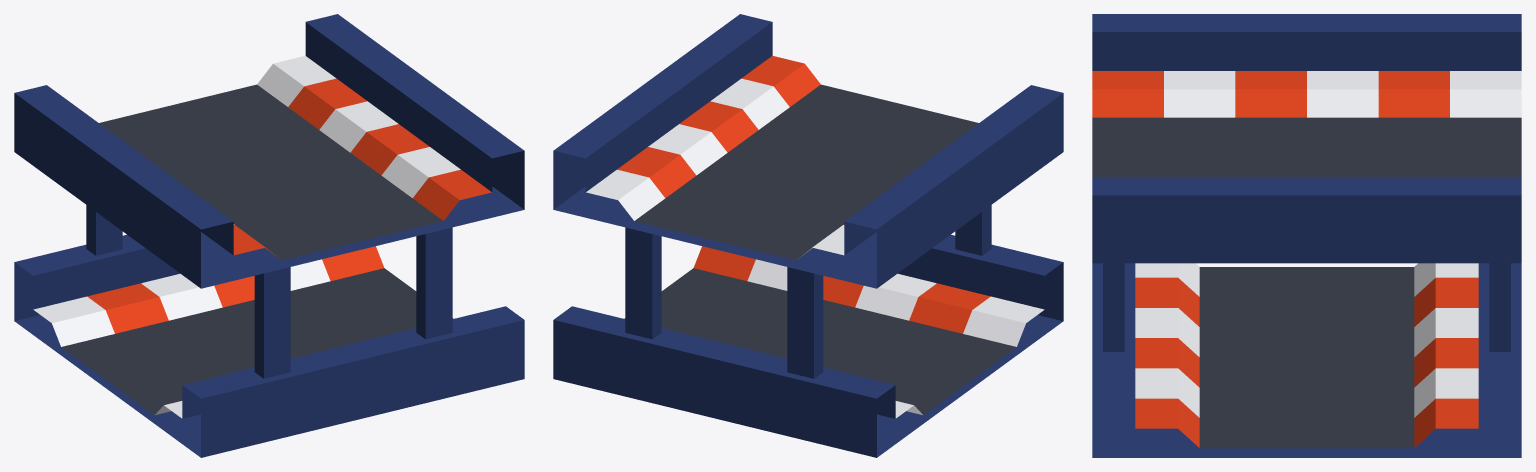
Rendered from Bridge.fbx.
The picture shows the model from 3 angles, left to right: view 1: azimuth 30°, elevation 25°; view 2: azimuth 150°, elevation 25°; view 3: azimuth 270°, elevation 25°; orthographic projection. The views are drawn at different scales.
Visible parts, largest first — view 1: bridge; view 2: bridge; view 3: bridge.
Boxes of the visible parts, <box> form: bridge: <box>14,14,524,457</box>; bridge: <box>553,14,1063,457</box>; bridge: <box>1092,14,1521,457</box>.
Bounding box in the file's own units: 400 × 270 × 400.
